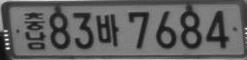3: (72, 11, 94, 50)
4: (205, 9, 230, 49)
6: (155, 10, 177, 50)
7: (127, 10, 150, 49)
8: (179, 10, 203, 49), (48, 11, 71, 50)
바: (95, 13, 120, 47)
충남_V: (23, 11, 47, 50)
